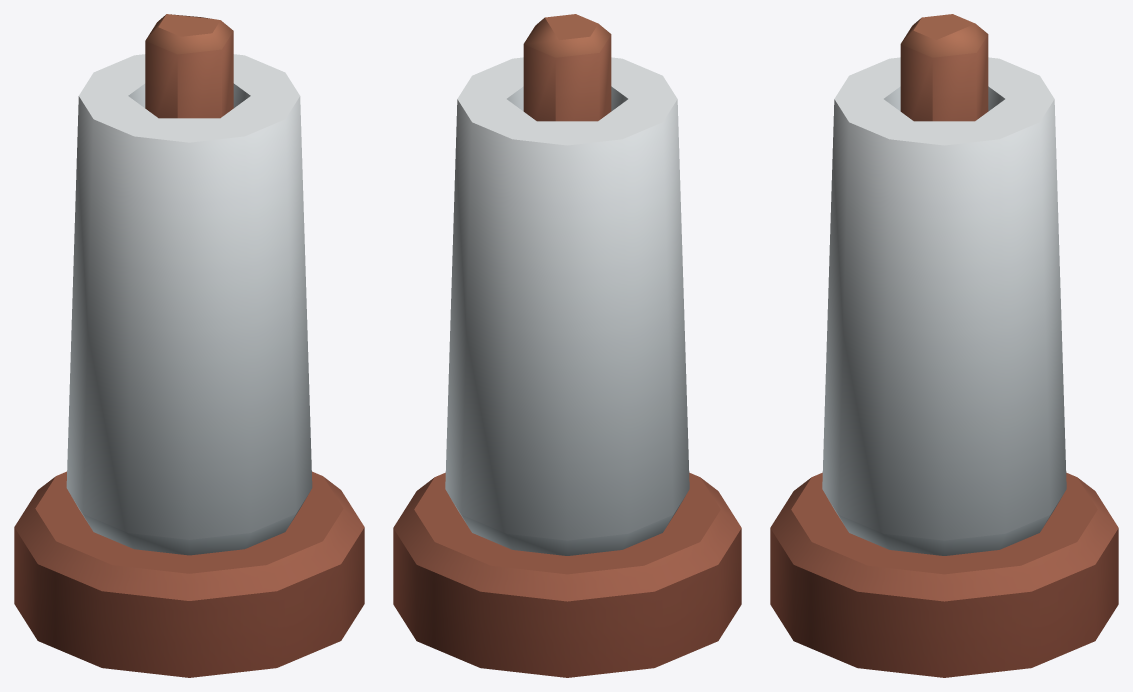
Rendered from cc0-papertowel-lod1.glb.
3 views of the same model, side by side, from view 1: azimuth 30°, elevation 25°; view 2: azimuth 150°, elevation 25°; view 3: azimuth 270°, elevation 25° (orthographic).
Parts seen in each view (by area): view 1: part_0; view 2: part_0; view 3: part_0.
Boxes of the visible parts, x1=… form: part_0: x1=14, y1=14, x2=364, y2=677; part_0: x1=393, y1=14, x2=741, y2=677; part_0: x1=770, y1=14, x2=1118, y2=677.
Size of the model in its own units: 0.5 by 0.9138 by 0.5.
Materials: 1 (1 with a texture image).
